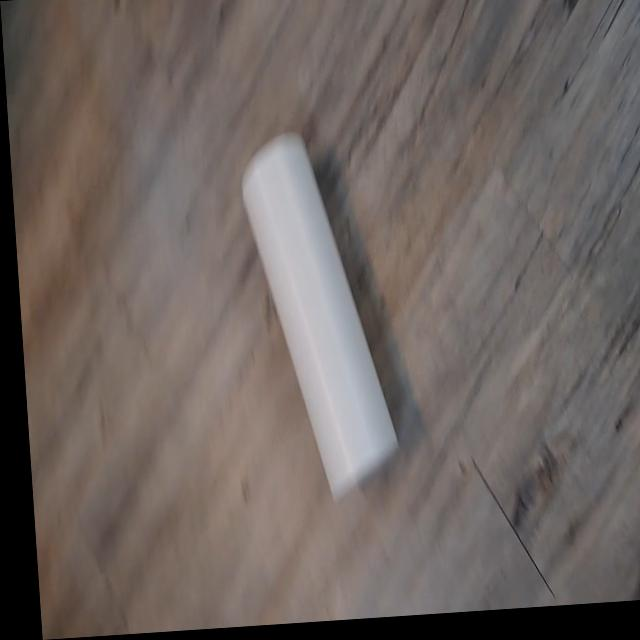CORAL: (230, 118, 411, 500)
